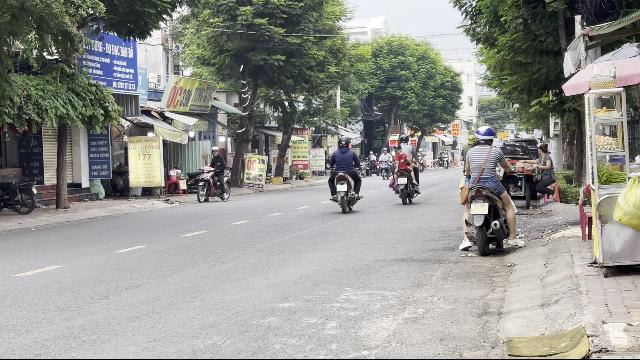helmet: (474, 126, 494, 144)
licenseplate: (470, 204, 488, 214)
motorcyclist: (456, 124, 520, 254)
